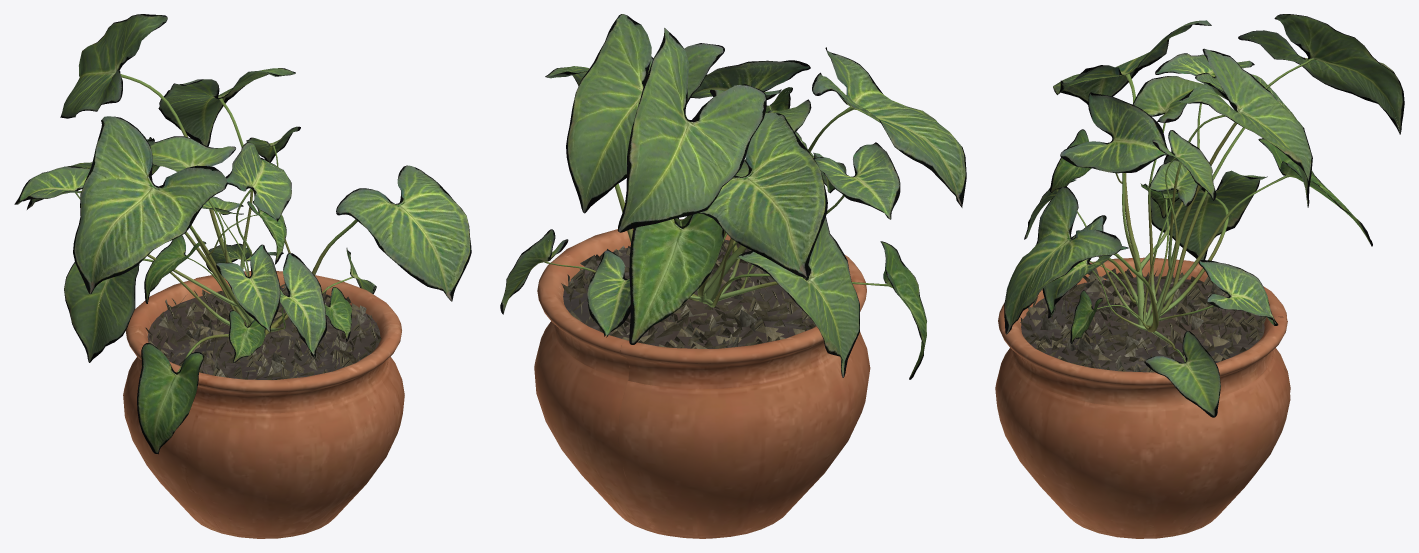
File: plant_syngonium.glb
3 views of the same model, side by side, from view 1: azimuth 30°, elevation 25°; view 2: azimuth 150°, elevation 25°; view 3: azimuth 270°, elevation 25° (orthographic). The views are drawn at different scales.
Parts seen in each view (by area): view 1: plant_syngonium; view 2: plant_syngonium; view 3: plant_syngonium.
Boxes of the visible parts, x1,y1,x2,y2 form: plant_syngonium: (14,14,471,538); plant_syngonium: (500,14,966,538); plant_syngonium: (995,14,1404,538).
Bounding box in the file's own units: 0.7012 × 0.8414 × 0.6575.
Materials: 2 (2 with a texture image).
